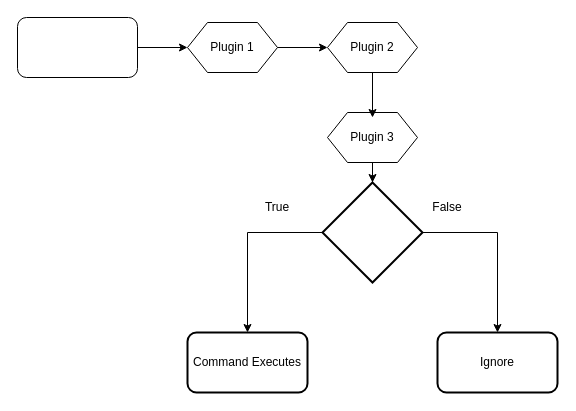
Some shapes in this 576 by 411 pixel diagram are drawn without their labels. The shapes that lost their labels are listed below. From the top down, each one's centre as x and y in pixels, then its label:
pixel 77 47: Event
pixel 372 232: Is successful
